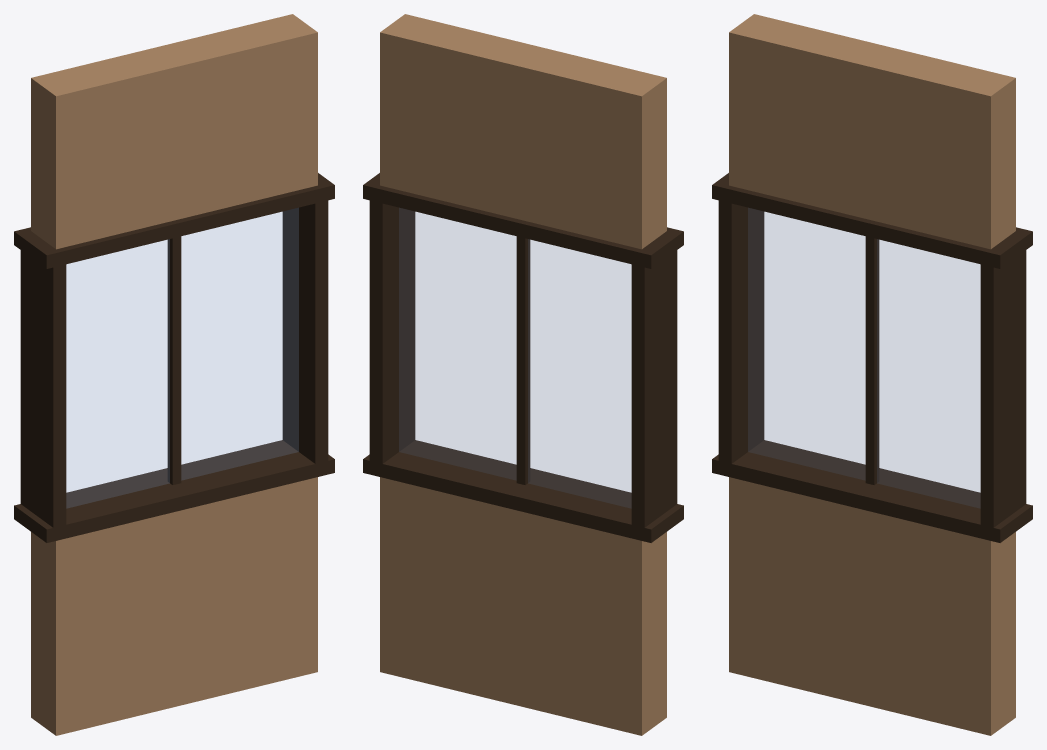
The model's file is ENV_Cabin_Window_A.glb.
3 renders of one model, left to right at view 1: azimuth 30°, elevation 25°; view 2: azimuth 150°, elevation 25°; view 3: azimuth 330°, elevation 25°, orthographic.
Visible parts, largest first — view 1: ENV_Cabin_Window_A_SillWall, pane, ENV_Cabin_Window_A_Header, ENV_Cabin_Window_A_FrameV0, ENV_Cabin_Window_A_FrameH0, ENV_Cabin_Window_A_FrameV1, ENV_Cabin_Window_A_FrameH1, ENV_Cabin_Window_A_Cross; view 2: ENV_Cabin_Window_A_SillWall, pane, ENV_Cabin_Window_A_Header, ENV_Cabin_Window_A_FrameV0, ENV_Cabin_Window_A_FrameH0, ENV_Cabin_Window_A_FrameV1, ENV_Cabin_Window_A_FrameH1, ENV_Cabin_Window_A_Cross; view 3: ENV_Cabin_Window_A_SillWall, pane, ENV_Cabin_Window_A_Header, ENV_Cabin_Window_A_FrameV1, ENV_Cabin_Window_A_FrameH0, ENV_Cabin_Window_A_FrameV0, ENV_Cabin_Window_A_FrameH1, ENV_Cabin_Window_A_Cross.
Part boxes in pixels (x1,y1,x2,y2): ENV_Cabin_Window_A_SillWall: [31, 477, 317, 735]; pane: [67, 208, 298, 507]; ENV_Cabin_Window_A_Header: [31, 14, 317, 249]; ENV_Cabin_Window_A_FrameV0: [20, 250, 66, 533]; ENV_Cabin_Window_A_FrameH0: [14, 440, 334, 542]; ENV_Cabin_Window_A_FrameV1: [282, 194, 328, 470]; ENV_Cabin_Window_A_FrameH1: [14, 173, 334, 268]; ENV_Cabin_Window_A_Cross: [167, 236, 181, 484]; ENV_Cabin_Window_A_SillWall: [380, 477, 666, 735]; pane: [399, 208, 630, 507]; ENV_Cabin_Window_A_Header: [380, 14, 666, 249]; ENV_Cabin_Window_A_FrameV0: [631, 250, 677, 533]; ENV_Cabin_Window_A_FrameH0: [363, 440, 683, 542]; ENV_Cabin_Window_A_FrameV1: [369, 194, 415, 469]; ENV_Cabin_Window_A_FrameH1: [363, 173, 683, 268]; ENV_Cabin_Window_A_Cross: [516, 236, 530, 484]; ENV_Cabin_Window_A_SillWall: [729, 477, 1015, 735]; pane: [748, 208, 979, 507]; ENV_Cabin_Window_A_Header: [729, 14, 1015, 249]; ENV_Cabin_Window_A_FrameV1: [980, 250, 1026, 533]; ENV_Cabin_Window_A_FrameH0: [712, 440, 1032, 542]; ENV_Cabin_Window_A_FrameV0: [718, 194, 764, 469]; ENV_Cabin_Window_A_FrameH1: [712, 173, 1032, 268]; ENV_Cabin_Window_A_Cross: [865, 236, 879, 484].
Size of the model in its own units: 1.32 by 2.8 by 0.26.
